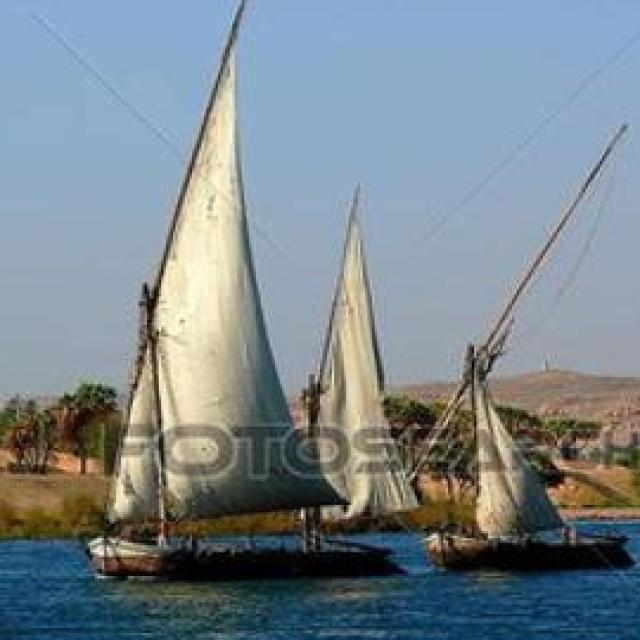sailboat: (66, 5, 359, 568), (261, 164, 419, 575), (410, 342, 635, 583)
